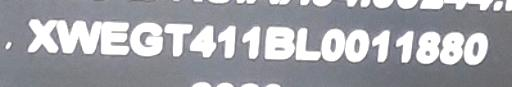letter: (54, 16, 102, 57), (262, 21, 296, 62), (128, 21, 166, 56), (98, 19, 132, 56), (26, 16, 58, 55), (163, 20, 193, 57), (188, 23, 218, 60), (295, 24, 321, 63), (345, 27, 371, 64), (414, 29, 440, 66), (216, 21, 240, 60), (320, 26, 344, 65), (462, 30, 488, 65), (240, 21, 262, 62), (440, 30, 464, 65), (370, 28, 392, 63), (394, 27, 414, 64)
